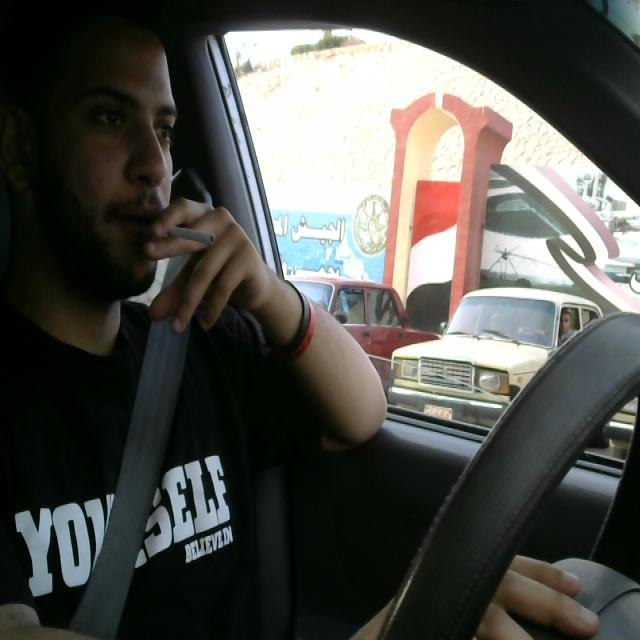smoking: (154, 222, 222, 253)
